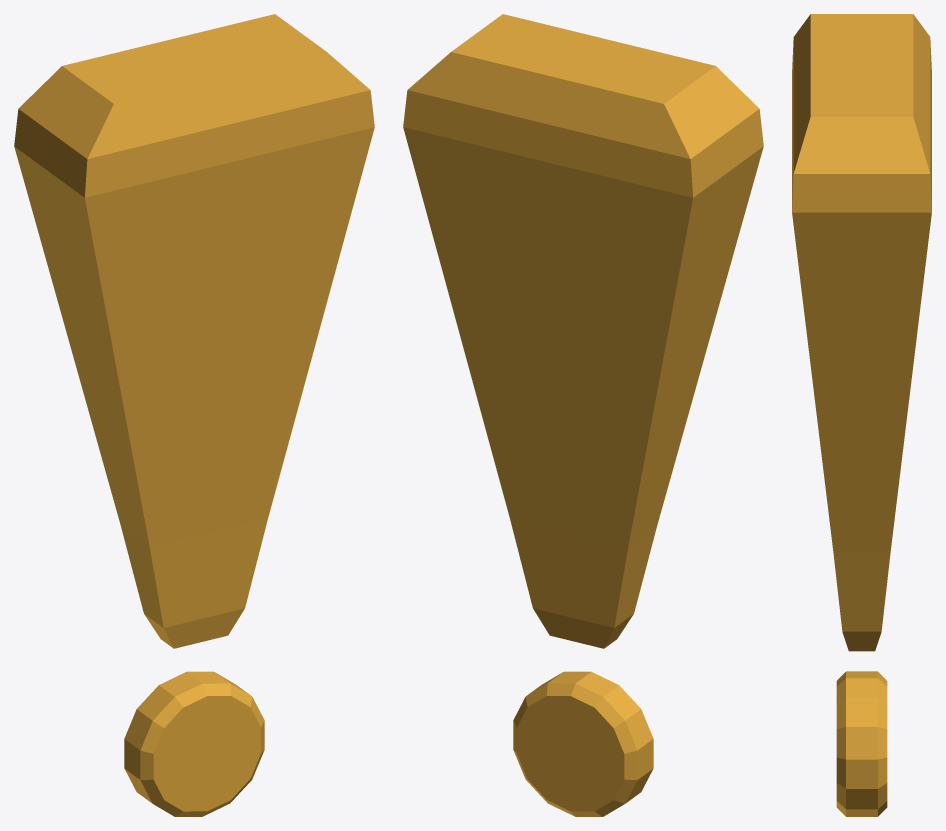
File: ExclamationMark.fbx
The picture shows the model from 3 angles, left to right: view 1: azimuth 30°, elevation 25°; view 2: azimuth 150°, elevation 25°; view 3: azimuth 270°, elevation 25°; orthographic projection.
Visible parts, largest first — view 1: Cube, Cylinder; view 2: Cube, Cylinder; view 3: Cube, Cylinder.
Part boxes in pixels (x1,y1,x2,y2): Cube: [14, 14, 374, 648]; Cylinder: [124, 671, 264, 816]; Cube: [403, 14, 763, 648]; Cylinder: [513, 671, 653, 816]; Cube: [792, 14, 931, 651]; Cylinder: [836, 671, 887, 816].
Size of the model in its own units: 305 by 756 by 129.
